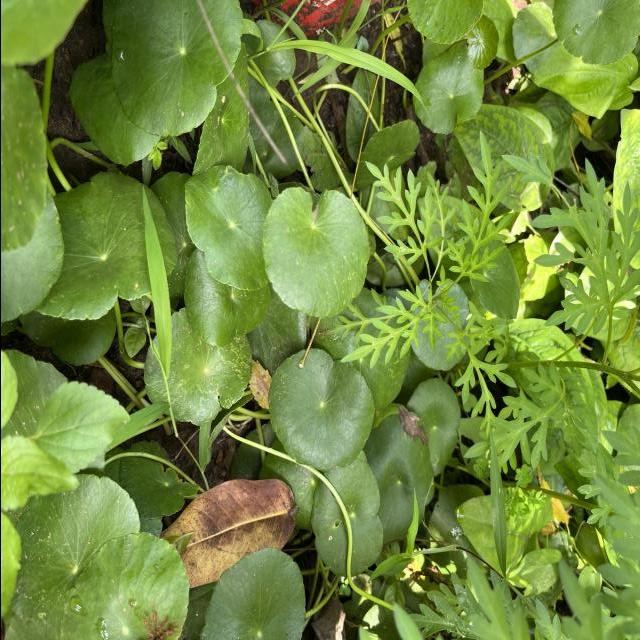Bacopa monnieri: (33, 170, 178, 323), (109, 0, 244, 138), (260, 186, 370, 320), (266, 346, 376, 472), (142, 306, 254, 428), (182, 164, 279, 292), (197, 545, 308, 640), (410, 43, 486, 136), (550, 0, 640, 67), (464, 13, 500, 72)
